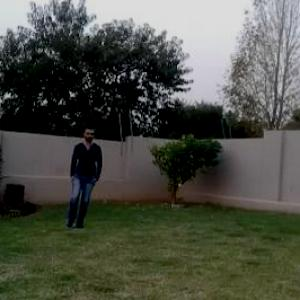follow: (66, 121, 100, 231)
